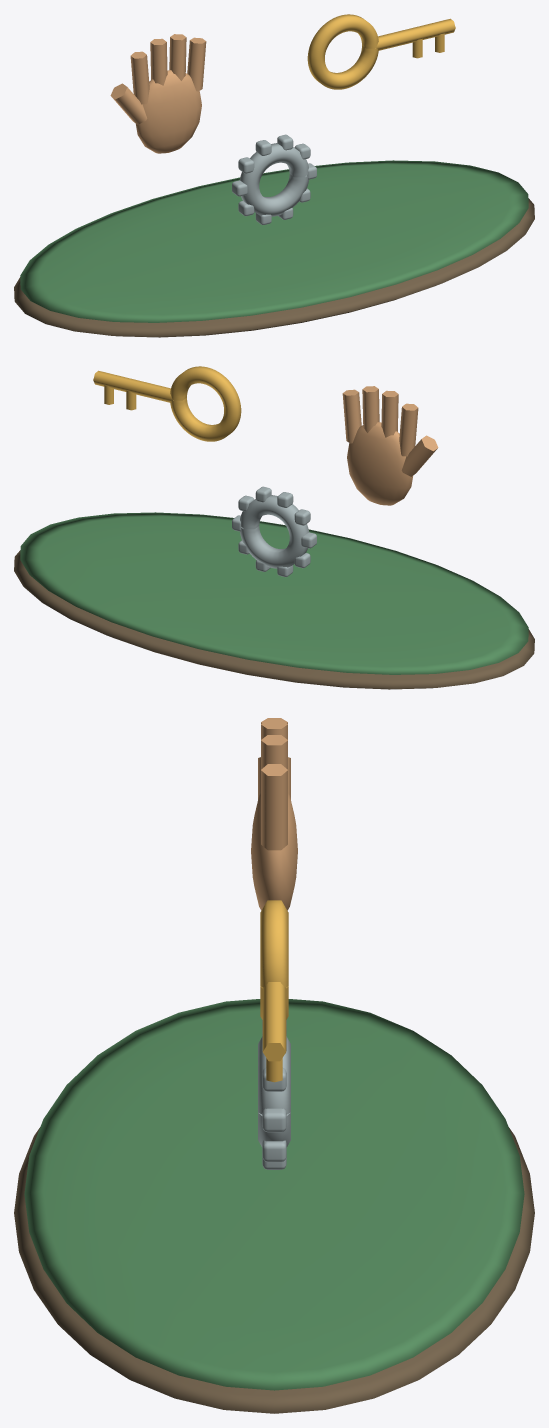
The model's file is complete-first-made-tool-function.glb.
3 views of the same model, one above another, from view 1: azimuth 30°, elevation 25°; view 2: azimuth 150°, elevation 25°; view 3: azimuth 270°, elevation 25° (orthographic). The views are drawn at different scales.
Parts seen in each view (by area): view 1: complete-first-made-tool-function_surface_01, complete-first-made-tool-function_surface_00, complete-first-made-tool-function_surface_02, complete-first-made-tool-function_surface_03, complete-first-made-tool-function_surface_04; view 2: complete-first-made-tool-function_surface_01, complete-first-made-tool-function_surface_00, complete-first-made-tool-function_surface_02, complete-first-made-tool-function_surface_03, complete-first-made-tool-function_surface_04; view 3: complete-first-made-tool-function_surface_01, complete-first-made-tool-function_surface_00, complete-first-made-tool-function_surface_02, complete-first-made-tool-function_surface_03, complete-first-made-tool-function_surface_04.
Part boxes in pixels (x1,y1,x2,y2): complete-first-made-tool-function_surface_01: (20, 160, 528, 322); complete-first-made-tool-function_surface_00: (14, 198, 534, 337); complete-first-made-tool-function_surface_02: (110, 34, 206, 153); complete-first-made-tool-function_surface_03: (307, 14, 455, 89); complete-first-made-tool-function_surface_04: (232, 134, 316, 224); complete-first-made-tool-function_surface_01: (20, 512, 528, 674); complete-first-made-tool-function_surface_00: (14, 550, 534, 689); complete-first-made-tool-function_surface_02: (342, 386, 438, 505); complete-first-made-tool-function_surface_03: (93, 366, 241, 441); complete-first-made-tool-function_surface_04: (232, 486, 316, 576); complete-first-made-tool-function_surface_01: (24, 999, 524, 1390); complete-first-made-tool-function_surface_00: (14, 1127, 534, 1413); complete-first-made-tool-function_surface_02: (251, 718, 297, 910); complete-first-made-tool-function_surface_03: (260, 900, 288, 1082); complete-first-made-tool-function_surface_04: (258, 1020, 290, 1169).
Size of the model in its own units: 4.56 by 2.22 by 2.5.
